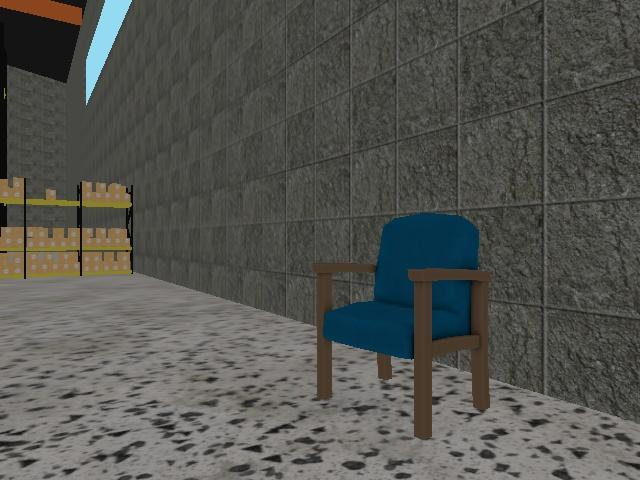chair: (310, 212, 492, 440)
